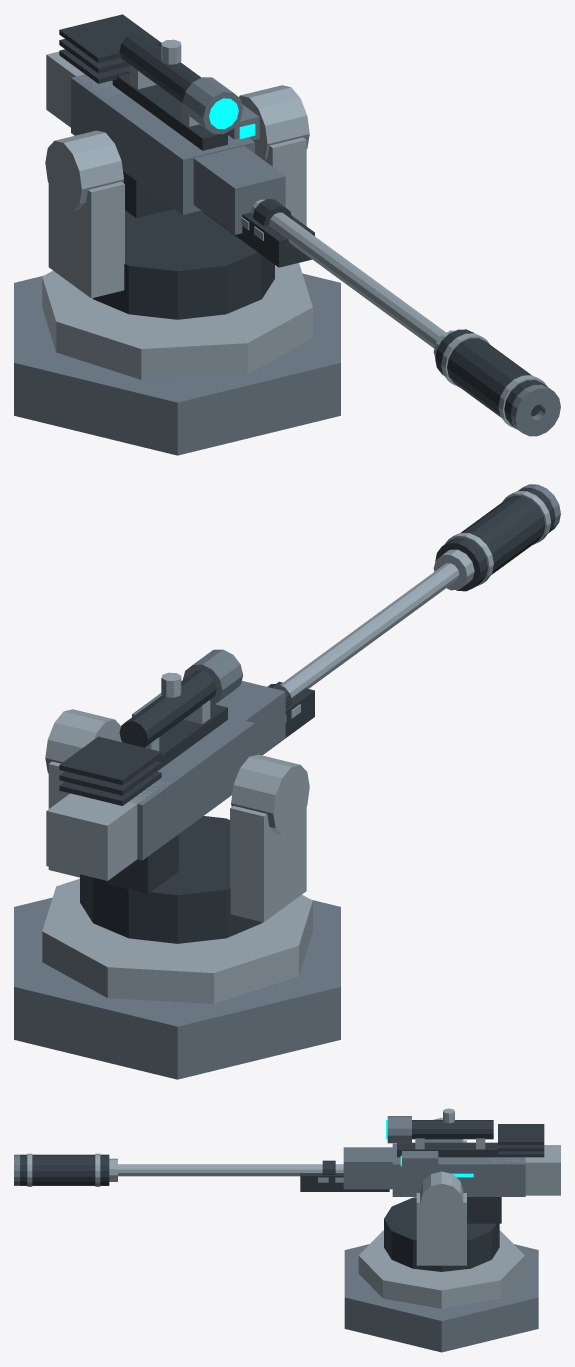
File: needle_t1.glb
3 views of the same model, one above another, from view 1: azimuth 30°, elevation 25°; view 2: azimuth 150°, elevation 25°; view 3: azimuth 270°, elevation 25° (orthographic). The views are drawn at different scales.
Parts seen in each view (by area): view 1: Foundation, Base upper armor, Yaw bearing, Elevation fork (×2), Receiver, Trunnion (×2), Slim receiver shroud, Signature suppressor, Precision barrel, Rear radiator (×3), Optic rail, Long range optic (+7 smaller); view 2: Foundation, Base upper armor, Yaw bearing, Receiver, Elevation fork (×2), Trunnion (×2), Rear equipment, Rear radiator (×3), Signature suppressor, Precision barrel, Long range optic, Slim receiver shroud (+5 smaller); view 3: Foundation, Base upper armor, Receiver, Yaw bearing, Precision barrel, Elevation fork, Signature suppressor, Slim receiver shroud, Trunnion, Rear radiator (×3), Rear equipment, Long range optic (+5 smaller).
Boxes of the visible parts, x1,y1,x2,y2 form: Foundation: (14, 273, 340, 455); Base upper armor: (42, 263, 312, 379); Yaw bearing: (92, 209, 274, 319); Elevation fork (×2): (48, 137, 306, 298); Receiver: (71, 74, 254, 214); Trunnion (×2): (45, 85, 309, 211); Slim receiver shroud: (193, 146, 285, 234); Signature suppressor: (435, 329, 548, 428); Precision barrel: (251, 199, 445, 348); Rear radiator (×3): (59, 14, 161, 83); Optic rail: (112, 73, 227, 150); Long range optic: (119, 33, 201, 102); Foundation: (14, 897, 340, 1079); Base upper armor: (42, 878, 312, 1003); Yaw bearing: (80, 816, 262, 943); Receiver: (129, 716, 254, 860); Elevation fork (×2): (48, 761, 306, 922); Trunnion (×2): (45, 709, 309, 835); Rear equipment: (46, 781, 162, 880); Rear radiator (×3): (59, 736, 161, 805); Signature suppressor: (435, 488, 555, 591); Precision barrel: (280, 563, 459, 698); Long range optic: (119, 670, 216, 747); Slim receiver shroud: (215, 681, 285, 755); Foundation: (344, 1244, 538, 1352); Base upper armor: (358, 1230, 524, 1308); Receiver: (392, 1143, 525, 1196); Yaw bearing: (384, 1197, 499, 1271); Precision barrel: (118, 1164, 343, 1176); Elevation fork: (416, 1193, 466, 1265); Signature suppressor: (20, 1154, 109, 1185); Slim receiver shroud: (343, 1147, 392, 1189); Trunnion: (420, 1171, 463, 1222); Rear radiator (×3): (498, 1124, 544, 1157); Rear equipment: (492, 1145, 560, 1195); Long range optic: (412, 1120, 493, 1139).
Size of the model in its own units: 1.55 by 1.48 by 3.79.
